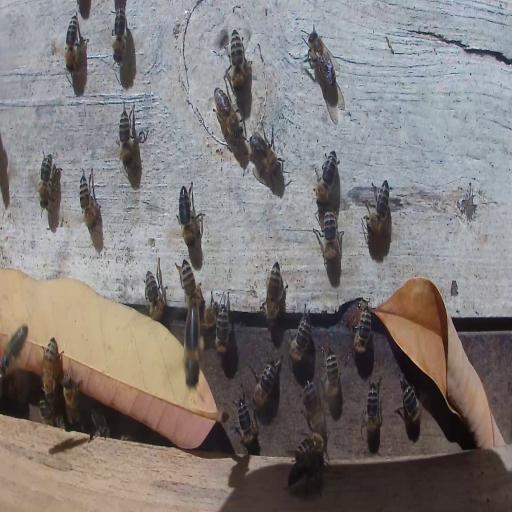bee: (182, 298, 206, 390), (247, 129, 283, 182), (312, 149, 340, 206), (215, 89, 243, 144), (306, 30, 335, 83), (316, 208, 342, 266), (0, 324, 29, 375), (177, 181, 199, 247), (286, 453, 326, 489), (366, 178, 391, 235), (262, 260, 284, 323), (78, 170, 98, 236), (234, 399, 260, 449), (302, 378, 326, 431), (398, 378, 423, 428), (251, 362, 277, 410), (322, 346, 342, 408), (117, 107, 136, 170), (143, 268, 165, 322), (290, 312, 312, 366), (364, 376, 382, 438), (229, 31, 247, 91), (353, 304, 373, 358), (180, 258, 202, 306), (293, 432, 329, 460), (38, 152, 53, 212), (43, 336, 57, 399), (112, 4, 126, 65), (63, 375, 79, 426), (65, 13, 78, 73), (217, 302, 230, 360), (202, 296, 218, 334), (89, 411, 109, 439), (38, 397, 52, 422)
